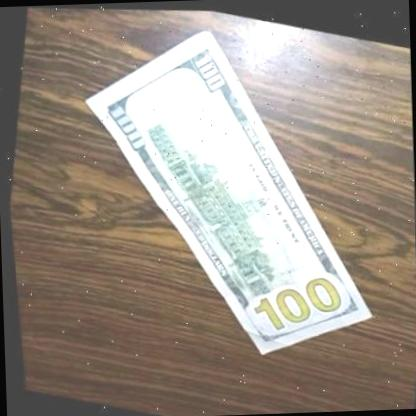one_hundred-back: (33, 0, 416, 385)
